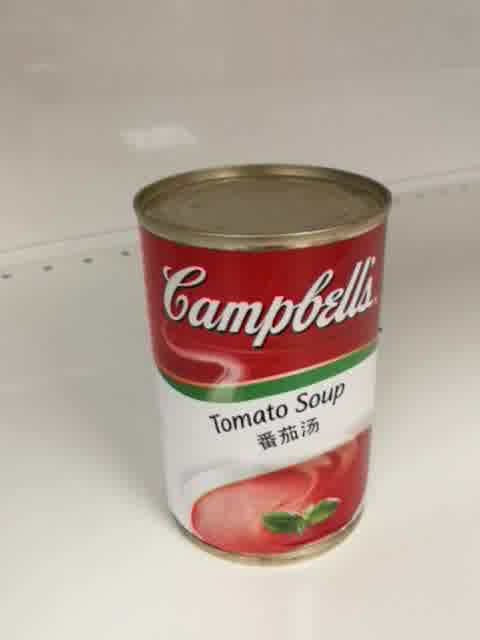tomatosoup: (132, 159, 393, 570)
